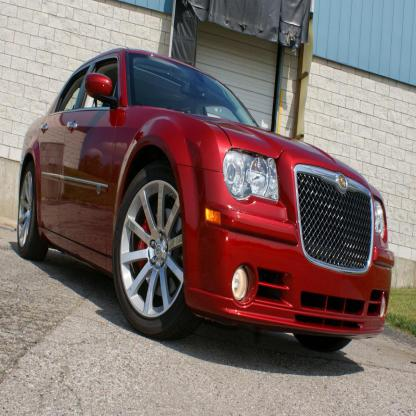Vehicle: (18, 47, 394, 342)
